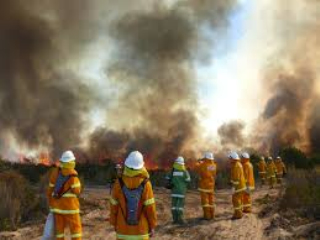smoke: (4, 7, 104, 157), (112, 9, 208, 162), (245, 35, 316, 157)
